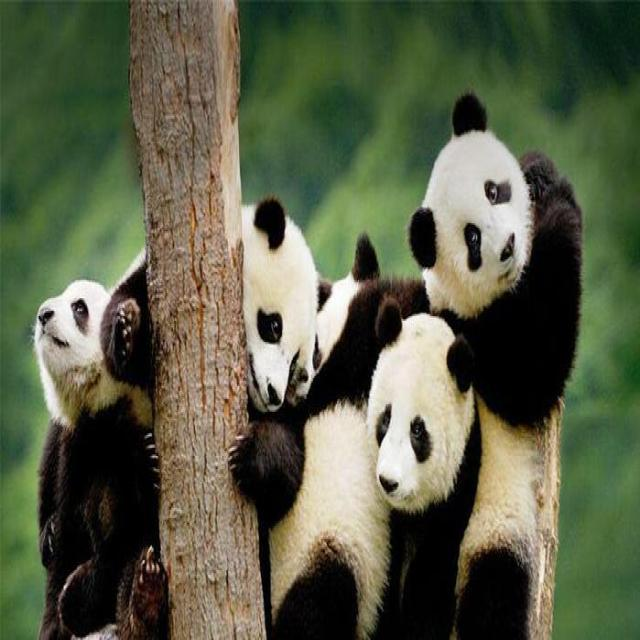panda: (25, 84, 603, 629)
